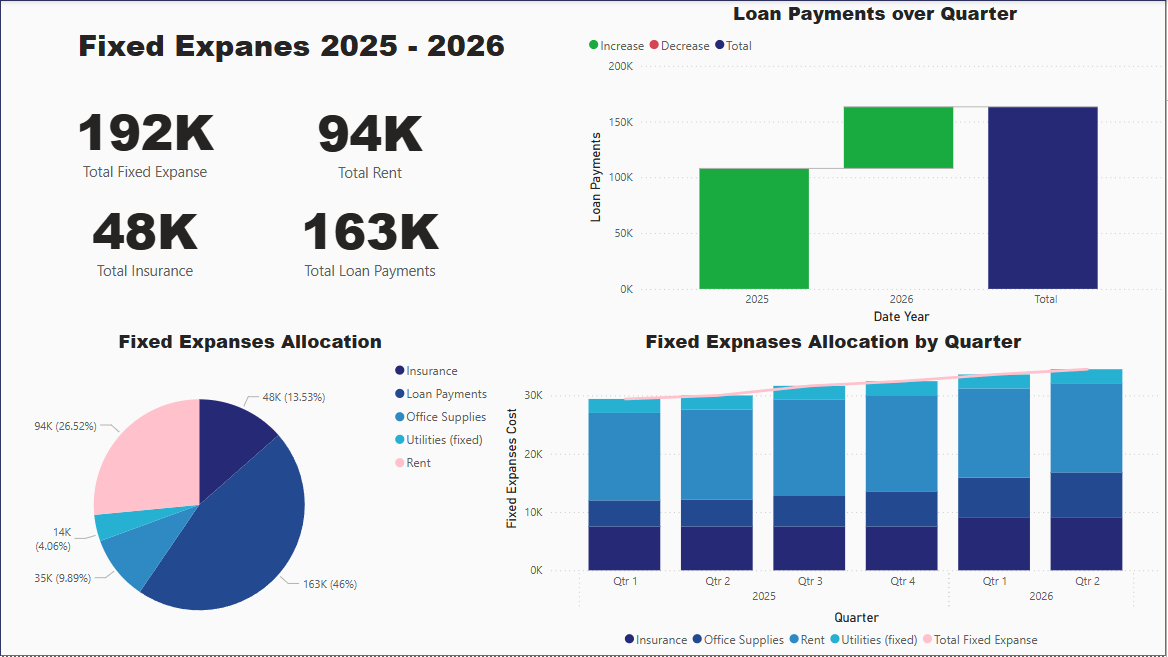

The page's visual inventory and layout, read from the dashboard file:
{"tool":"powerbi","page":{"name":"Fixed Expanses","canvas":[1280,720],"ordinal":0},"visuals":[{"type":"shape","box":[0,0,1280.3,720.4],"z":0},{"type":"pieChart","title":"Fixed Expanses Allocation","fields":{"Y":["Sum(fixed_expenses_data.Insurance)","Sum(fixed_expenses_data.Loan Payments)","Sum(fixed_expenses_data.Office Supplies)","Sum(fixed_expenses_data.Utilities (fixed))","Sum(fixed_expenses_data.Rent)"]},"box":[0,359.5,548.9,360.9],"z":1000},{"type":"lineStackedColumnComboChart","title":"Fixed Expnases Allocation by Quarter","fields":{"Category":["fixed_expenses_data.Date.Variation.Date Hierarchy.Year","fixed_expenses_data.Date.Variation.Date Hierarchy.Quarter","fixed_expenses_data.Date.Variation.Date Hierarchy.Month","fixed_expenses_data.Date.Variation.Date Hierarchy.Day"],"Y":["Sum(fixed_expenses_data.Insurance)","Sum(fixed_expenses_data.Office Supplies)","Sum(fixed_expenses_data.Rent)","Sum(fixed_expenses_data.Utilities (fixed))"],"Y2":["fixed_expenses_data.Total Fixed Expanse"]},"box":[548.9,359.5,731.4,360.9],"z":2000},{"type":"waterfallChart","title":"Loan Payments over Quarter","fields":{"Category":["fixed_expenses_data.Date.Variation.Date Hierarchy.Year","fixed_expenses_data.Date.Variation.Date Hierarchy.Quarter","fixed_expenses_data.Date.Variation.Date Hierarchy.Month","fixed_expenses_data.Date.Variation.Date Hierarchy.Day"],"Y":["Sum(fixed_expenses_data.Loan Payments)"]},"box":[640.8,0,639.5,360.9],"z":3000},{"type":"card","fields":{"Values":["fixed_expenses_data.Total Fixed Expanse"]},"box":[35.7,98.8,247,108.4],"z":4000},{"type":"card","fields":{"Values":["Sum(fixed_expenses_data.Loan Payments)"]},"box":[282.7,207.2,247,108.4],"z":5000},{"type":"card","fields":{"Values":["Sum(fixed_expenses_data.Rent)"]},"box":[282.7,100.2,247,108.4],"z":6000},{"type":"card","fields":{"Values":["Sum(fixed_expenses_data.Insurance)"]},"box":[35.7,207.2,247,108.4],"z":7000},{"type":"textbox","box":[0,22,639.5,60.4],"z":8000}]}

Visuals, with their boxes in screenshot pixels (x1, y1, x2, y2), scaled from the page's 1280x720 canvas onto the 1168x657 screenshot:
shape: 0/0/1167/656
"Fixed Expanses Allocation" pieChart: 0/328/501/656
"Fixed Expnases Allocation by Quarter" lineStackedColumnComboChart: 501/328/1167/656
"Loan Payments over Quarter" waterfallChart: 585/0/1167/329
card - fixed_expenses_data.Total Fixed Expanse: 33/90/258/189
card - Sum(fixed_expenses_data.Loan Payments): 258/189/483/288
card - Sum(fixed_expenses_data.Rent): 258/91/483/190
card - Sum(fixed_expenses_data.Insurance): 33/189/258/288
textbox: 0/20/584/75
